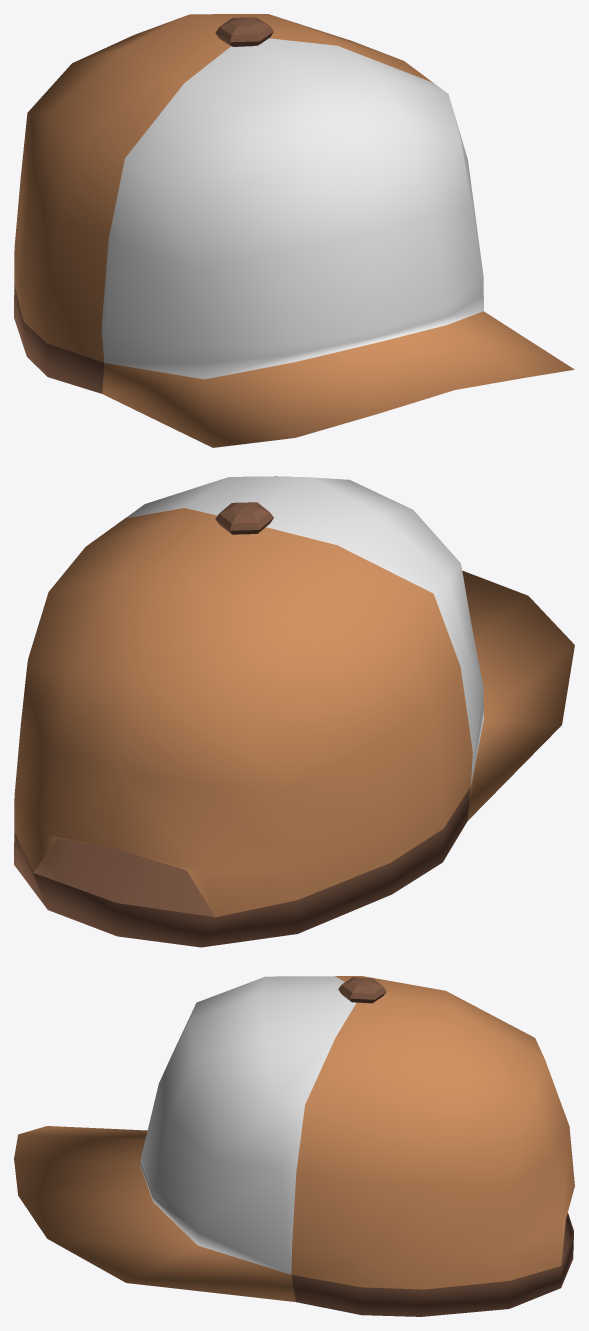
Rendered from cap.fbx.
3 renders of one model, top to bottom at view 1: azimuth 30°, elevation 25°; view 2: azimuth 150°, elevation 25°; view 3: azimuth 270°, elevation 25°, orthographic. The views are drawn at different scales.
Visible parts, largest first — view 1: cap; view 2: cap; view 3: cap.
Boxes of the visible parts, box(x1,y1,x2,y2) form: cap: box(14, 14, 574, 447); cap: box(14, 476, 574, 947); cap: box(14, 976, 574, 1316).
Bounding box in the file's own units: 99.49 × 80.2 × 147.
